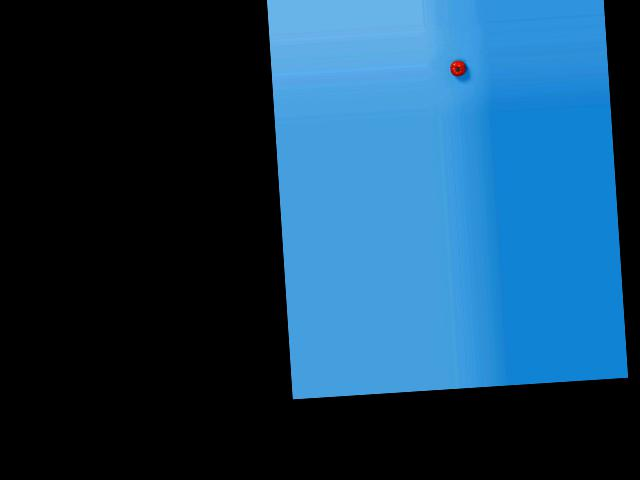tomato: (449, 60, 466, 77)
